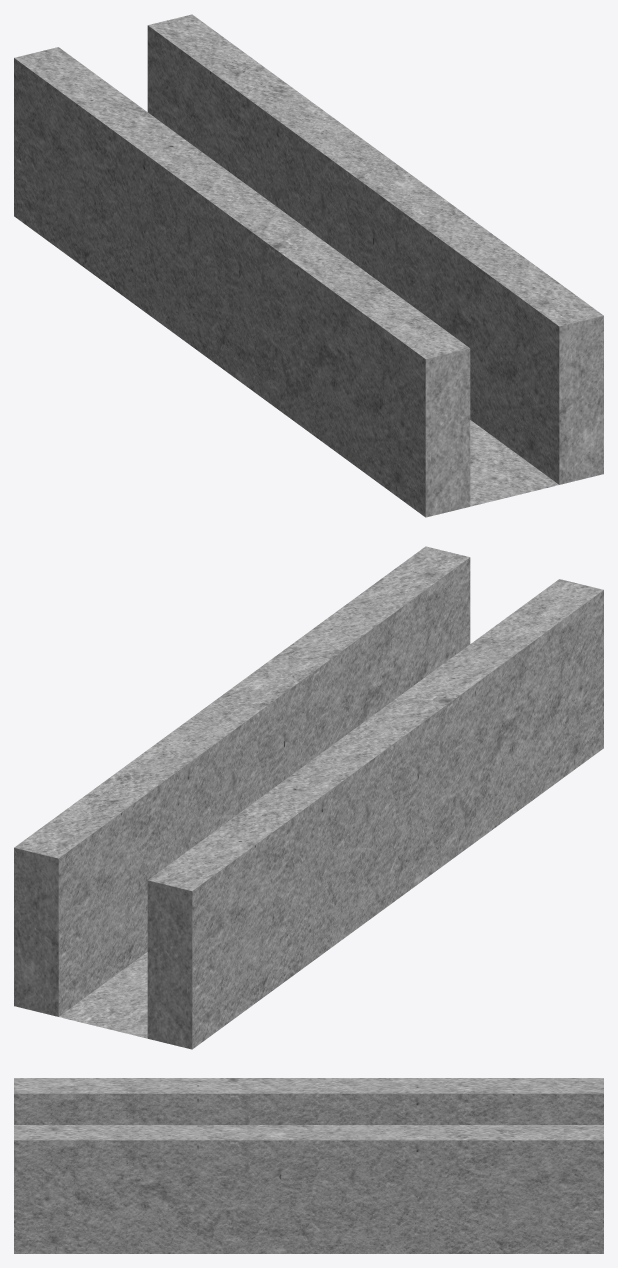
Rendered from 1x1corridorTextured.fbx.
3 views of the same model, one above another, from view 1: azimuth 30°, elevation 25°; view 2: azimuth 150°, elevation 25°; view 3: azimuth 270°, elevation 25° (orthographic). The views are drawn at different scales.
Parts seen in each view (by area): view 1: Plane.001; view 2: Plane.001; view 3: Plane.001.
Part boxes in pixels (x1,y1,x2,y2): Plane.001: (14,14,603,517); Plane.001: (14,546,603,1049); Plane.001: (14,1078,603,1253).
Size of the model in its own units: 12.5 by 10.61 by 50.
1 material, 1 textured.
